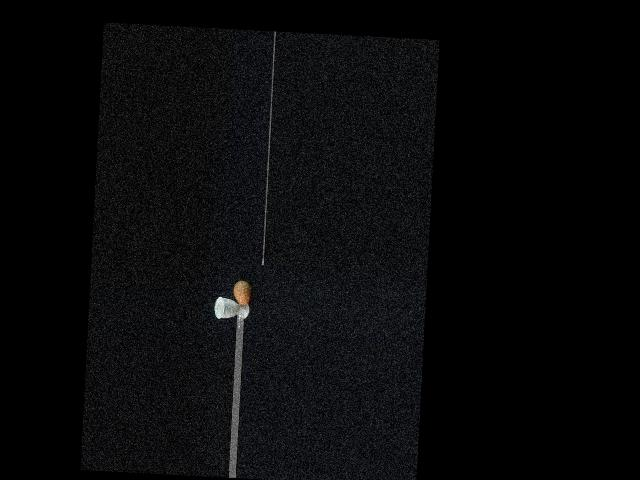egg: (232, 280, 251, 305)
